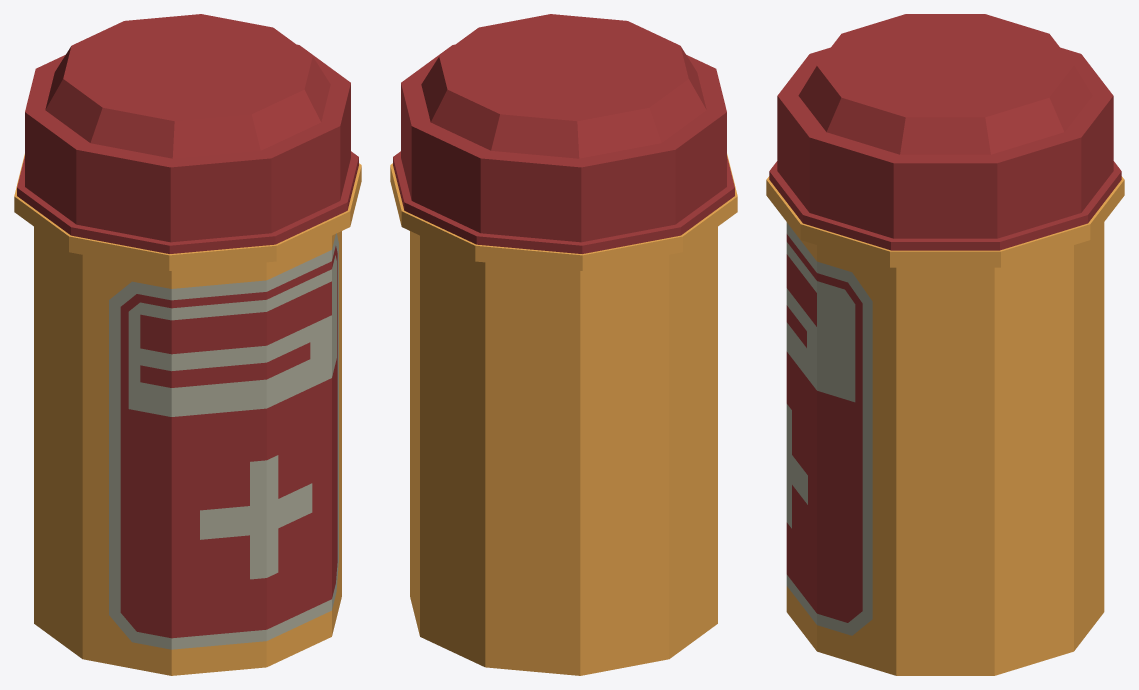
The model's file is PillsModel.fbx.
3 views of the same model, side by side, from view 1: azimuth 30°, elevation 25°; view 2: azimuth 150°, elevation 25°; view 3: azimuth 270°, elevation 25° (orthographic).
Parts seen in each view (by area): view 1: Циліндр; view 2: Циліндр; view 3: Циліндр.
Boxes of the visible parts, <box> form: Циліндр: <box>14,14,361,675</box>; Циліндр: <box>390,14,737,675</box>; Циліндр: <box>766,14,1124,675</box>.
Size of the model in its own units: 214 by 380 by 225.
